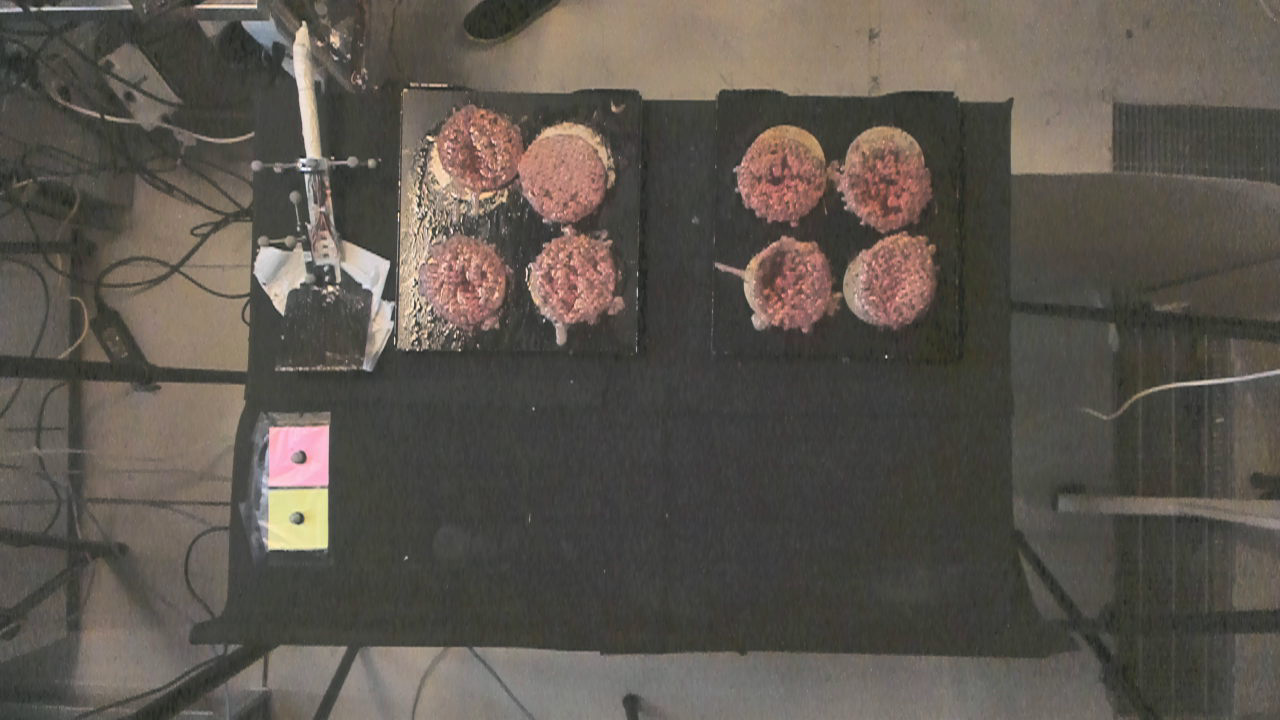hamburger: (410, 229, 508, 324), (525, 239, 627, 324), (433, 103, 521, 187), (740, 130, 823, 219), (746, 244, 829, 333), (522, 137, 607, 221), (859, 237, 940, 322), (844, 145, 929, 224)
marker: (269, 424, 330, 486)
